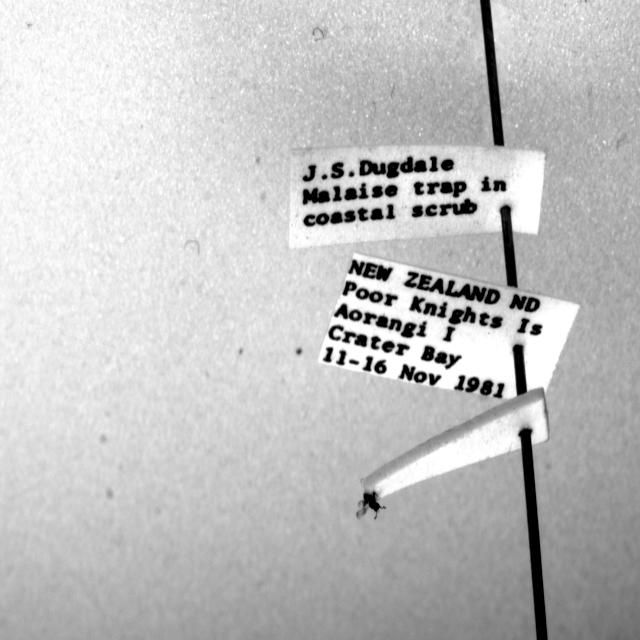typed_label: (319, 253, 579, 399), (289, 146, 545, 248)
